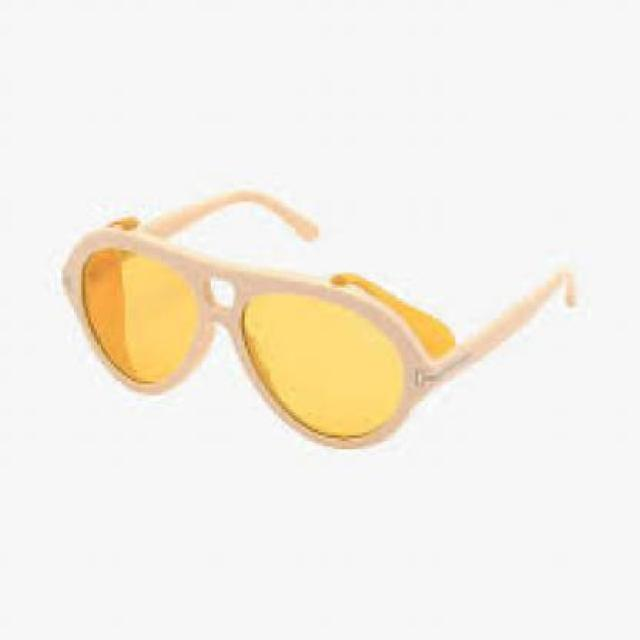gozluk: (45, 213, 441, 461)
